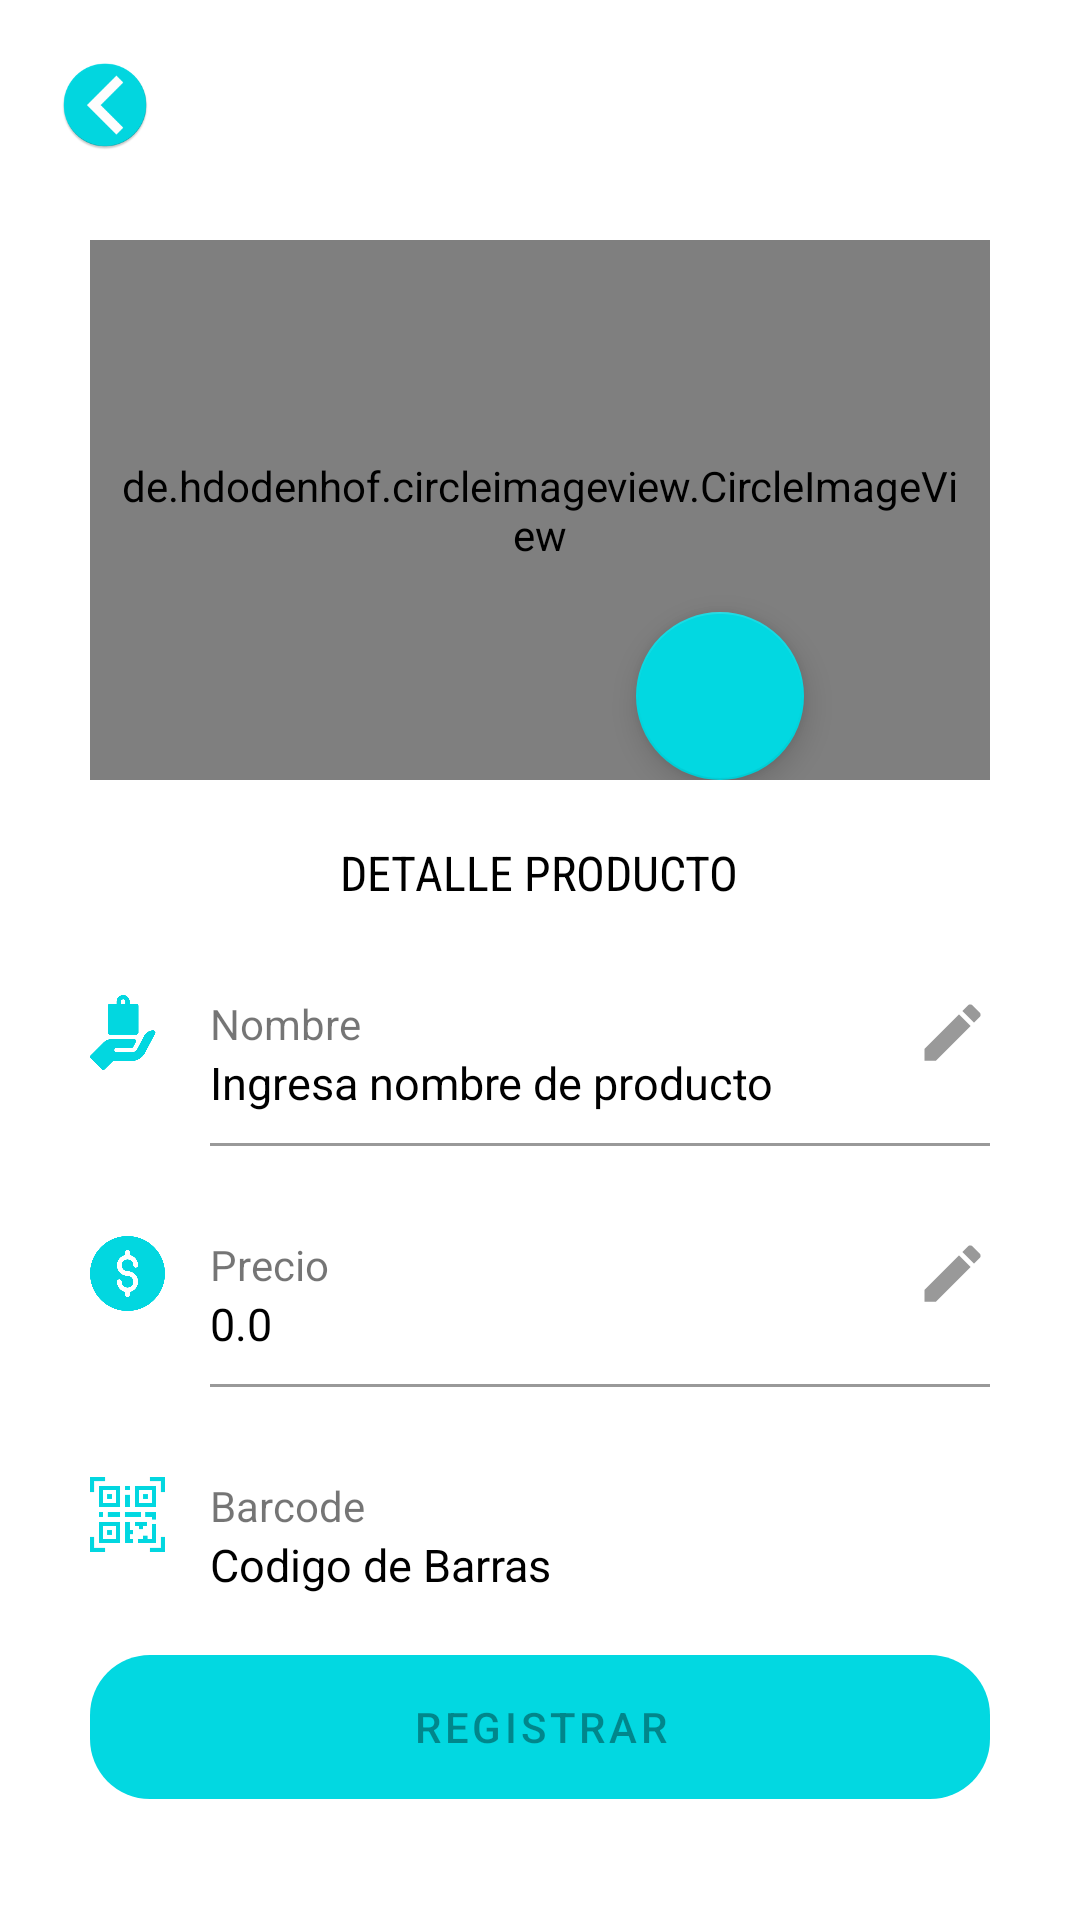

Icons on this 1080px×1920px Android screen, each with its box as (x1=x1, y1=y1, x2=x2, y2=y2):
back arrow: (x1=63, y1=63, x2=147, y2=148)
dollar price: (x1=90, y1=1236, x2=165, y2=1311)
edit: (x1=924, y1=1004, x2=981, y2=1061), (x1=924, y1=1245, x2=981, y2=1302)
qr code: (x1=90, y1=1477, x2=165, y2=1552)
